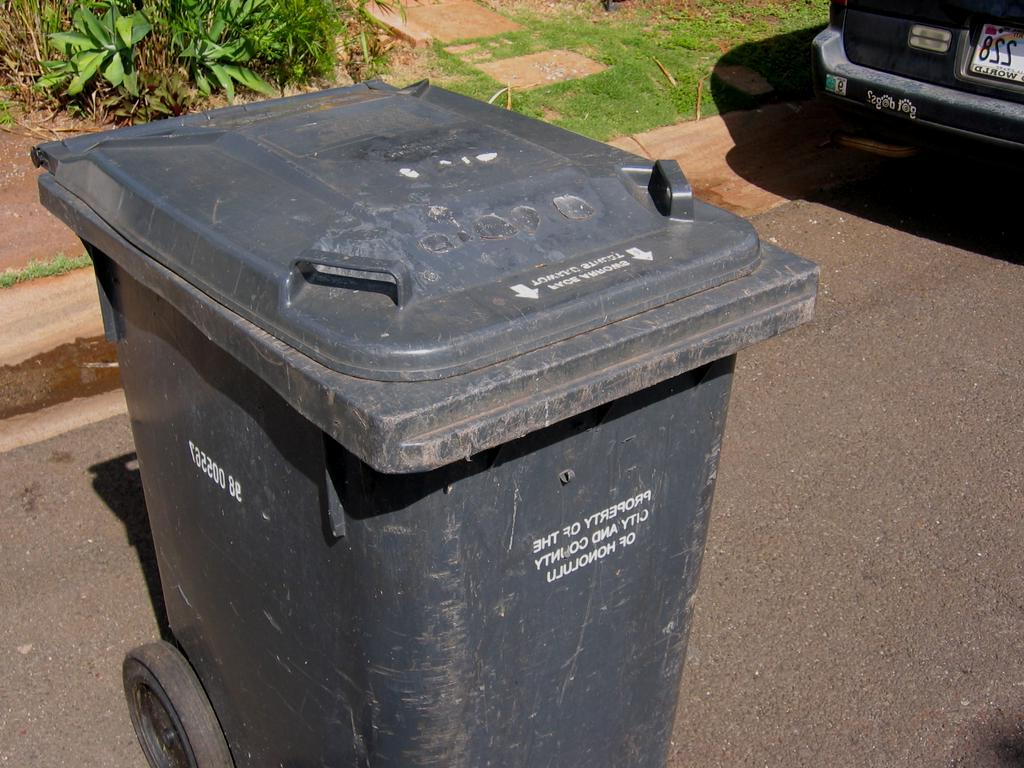dustbin: (19, 64, 816, 768)
